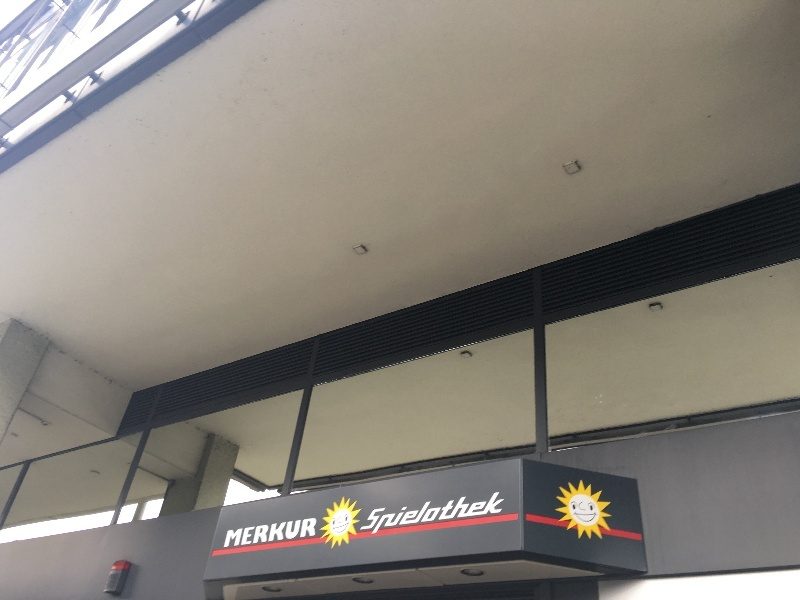text: (385, 490, 400, 539), (401, 490, 416, 539), (417, 490, 432, 539), (433, 490, 448, 539), (449, 490, 464, 539), (465, 490, 480, 539), (481, 490, 496, 539), (497, 490, 511, 539), (372, 490, 384, 539), (241, 516, 256, 551), (257, 516, 272, 551), (273, 516, 288, 551), (289, 516, 304, 551), (305, 516, 319, 551), (228, 516, 240, 551)
